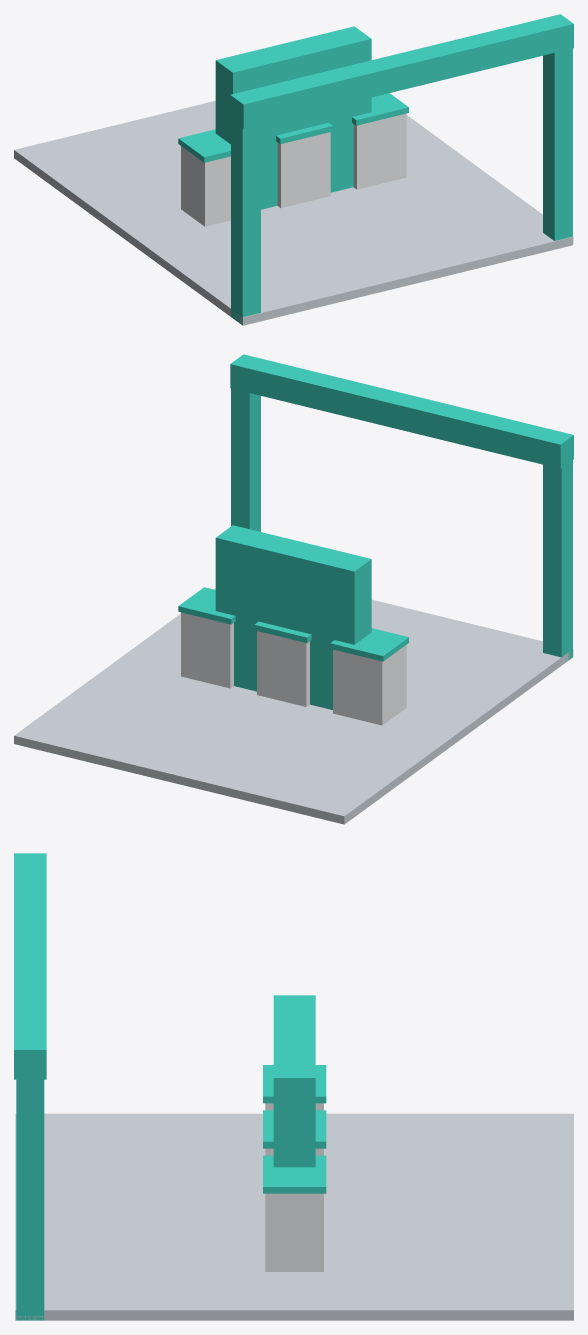
3 views of the same model, one above another, from view 1: azimuth 30°, elevation 25°; view 2: azimuth 150°, elevation 25°; view 3: azimuth 270°, elevation 25° (orthographic). The views are drawn at different scales.
Parts seen in each view (by area): view 1: Exhibition Booth Concept; view 2: Exhibition Booth Concept; view 3: Exhibition Booth Concept.
Part boxes in pixels (left/top/right/bottom): Exhibition Booth Concept: left=14, top=14, right=573, bottom=325; Exhibition Booth Concept: left=14, top=354, right=573, bottom=824; Exhibition Booth Concept: left=14, top=853, right=573, bottom=1320.
Bounding box in the file's own units: 5 × 3.2 × 6.02.
